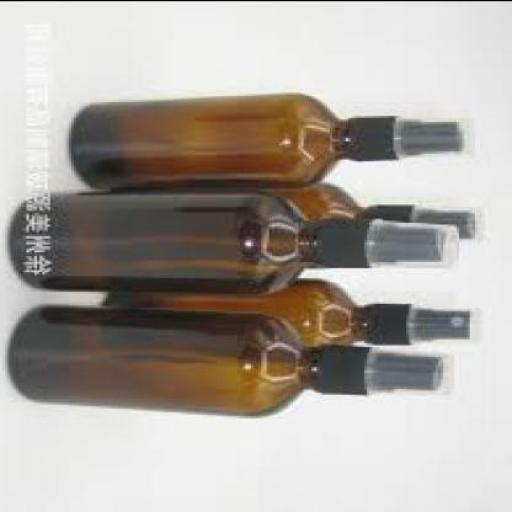glass: (10, 304, 320, 416), (10, 196, 324, 296), (72, 95, 360, 194), (103, 278, 375, 348), (258, 182, 386, 233)
plastic: (320, 218, 464, 272), (316, 346, 452, 397), (348, 117, 480, 164), (369, 302, 480, 348), (377, 206, 486, 243)
